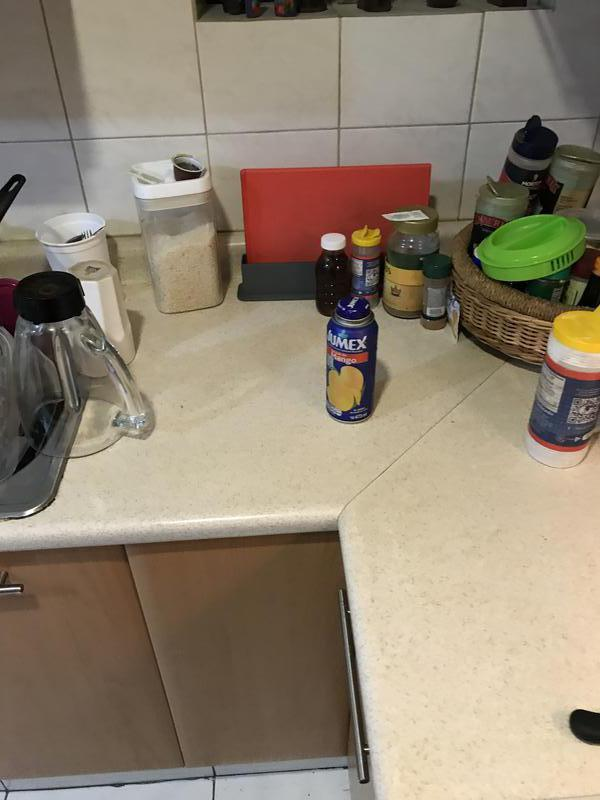jugo_jumex: (324, 295, 377, 427)
